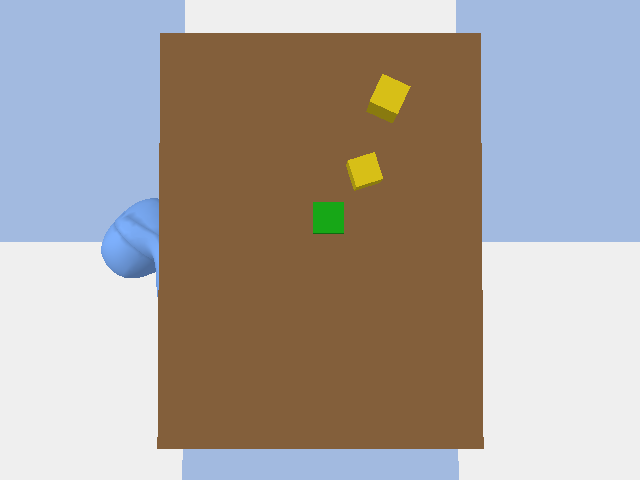green_obj: (313, 202, 343, 233)
yellow_obj: (366, 74, 410, 122), (346, 152, 382, 190)
